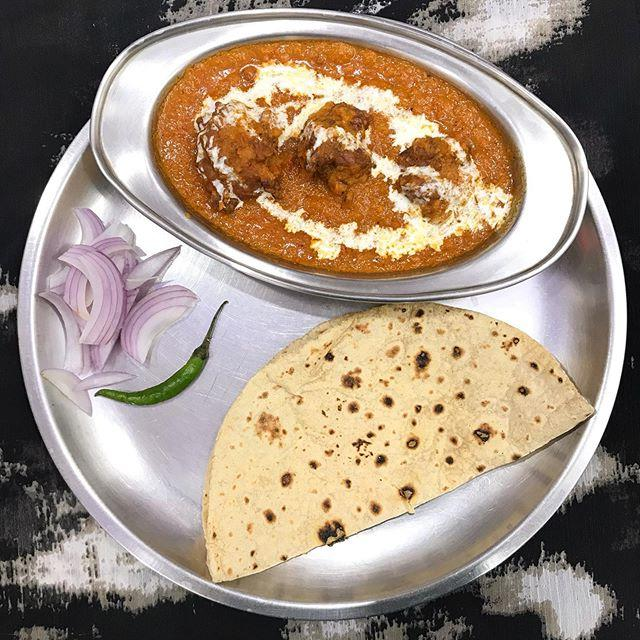Roti: (179, 298, 591, 570)
